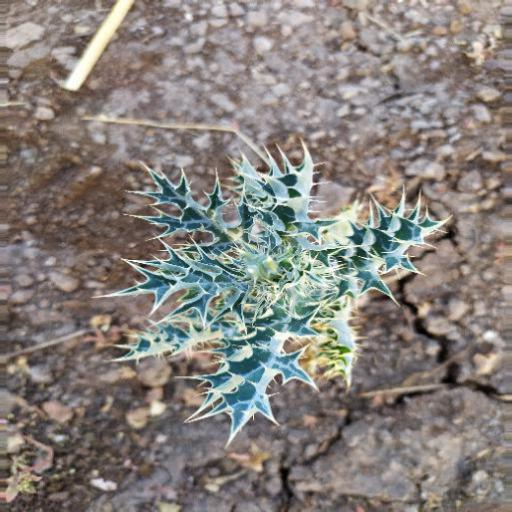weed: (96, 135, 455, 445)
